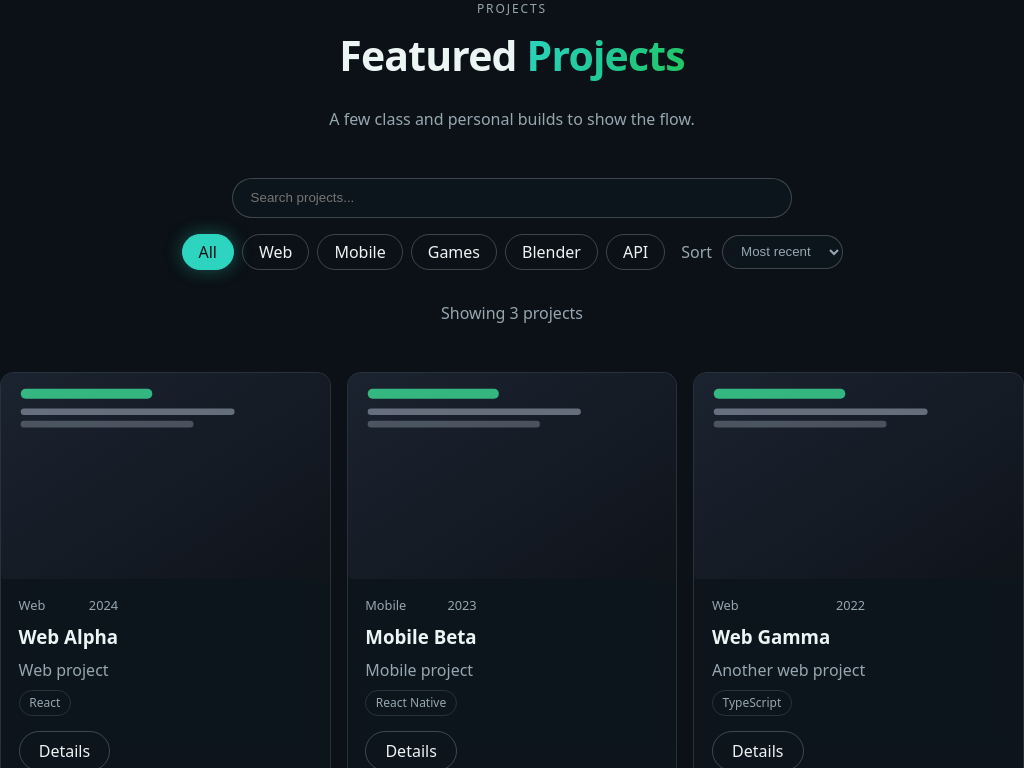
it: ProjectsPage filters › filters by category and search text
Check: the heading "Web Alpha" is shown, box [19,624,118,649]
Check: the heading "Mobile Beta" is shown, box [365,624,477,649]
Click the button "Web" at point(276, 252), box [242,234,309,270]
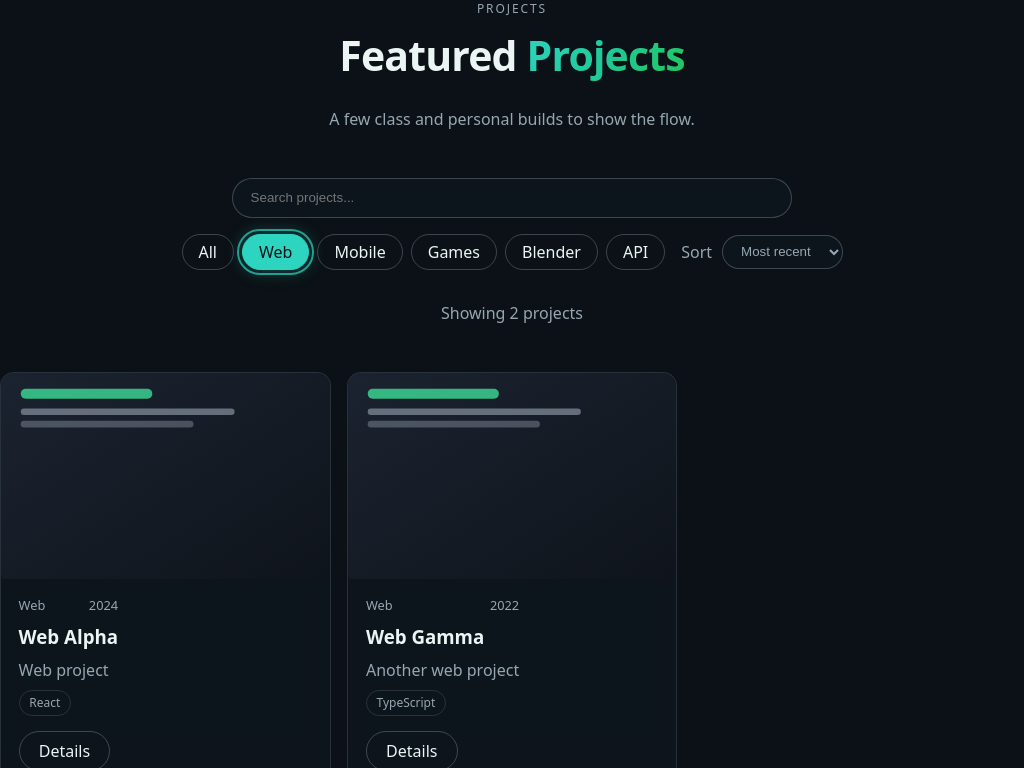
Check: the heading "Web Alpha" is shown, box [19,624,118,649]
Check: the button "Mobile Beta" is gone
Type "gamma" into the search field at point(512, 198), box [232,178,792,218]
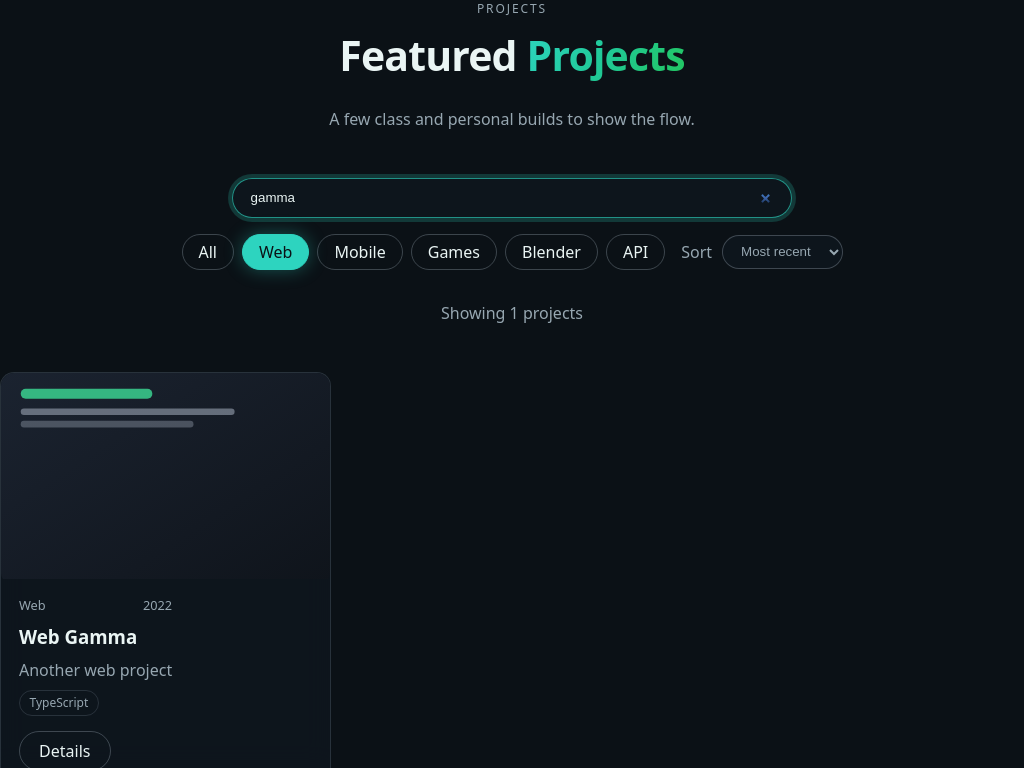
Check: the heading "Web Gamma" is shown, box [19,624,137,649]
Check: the button "Web Alpha" is gone
